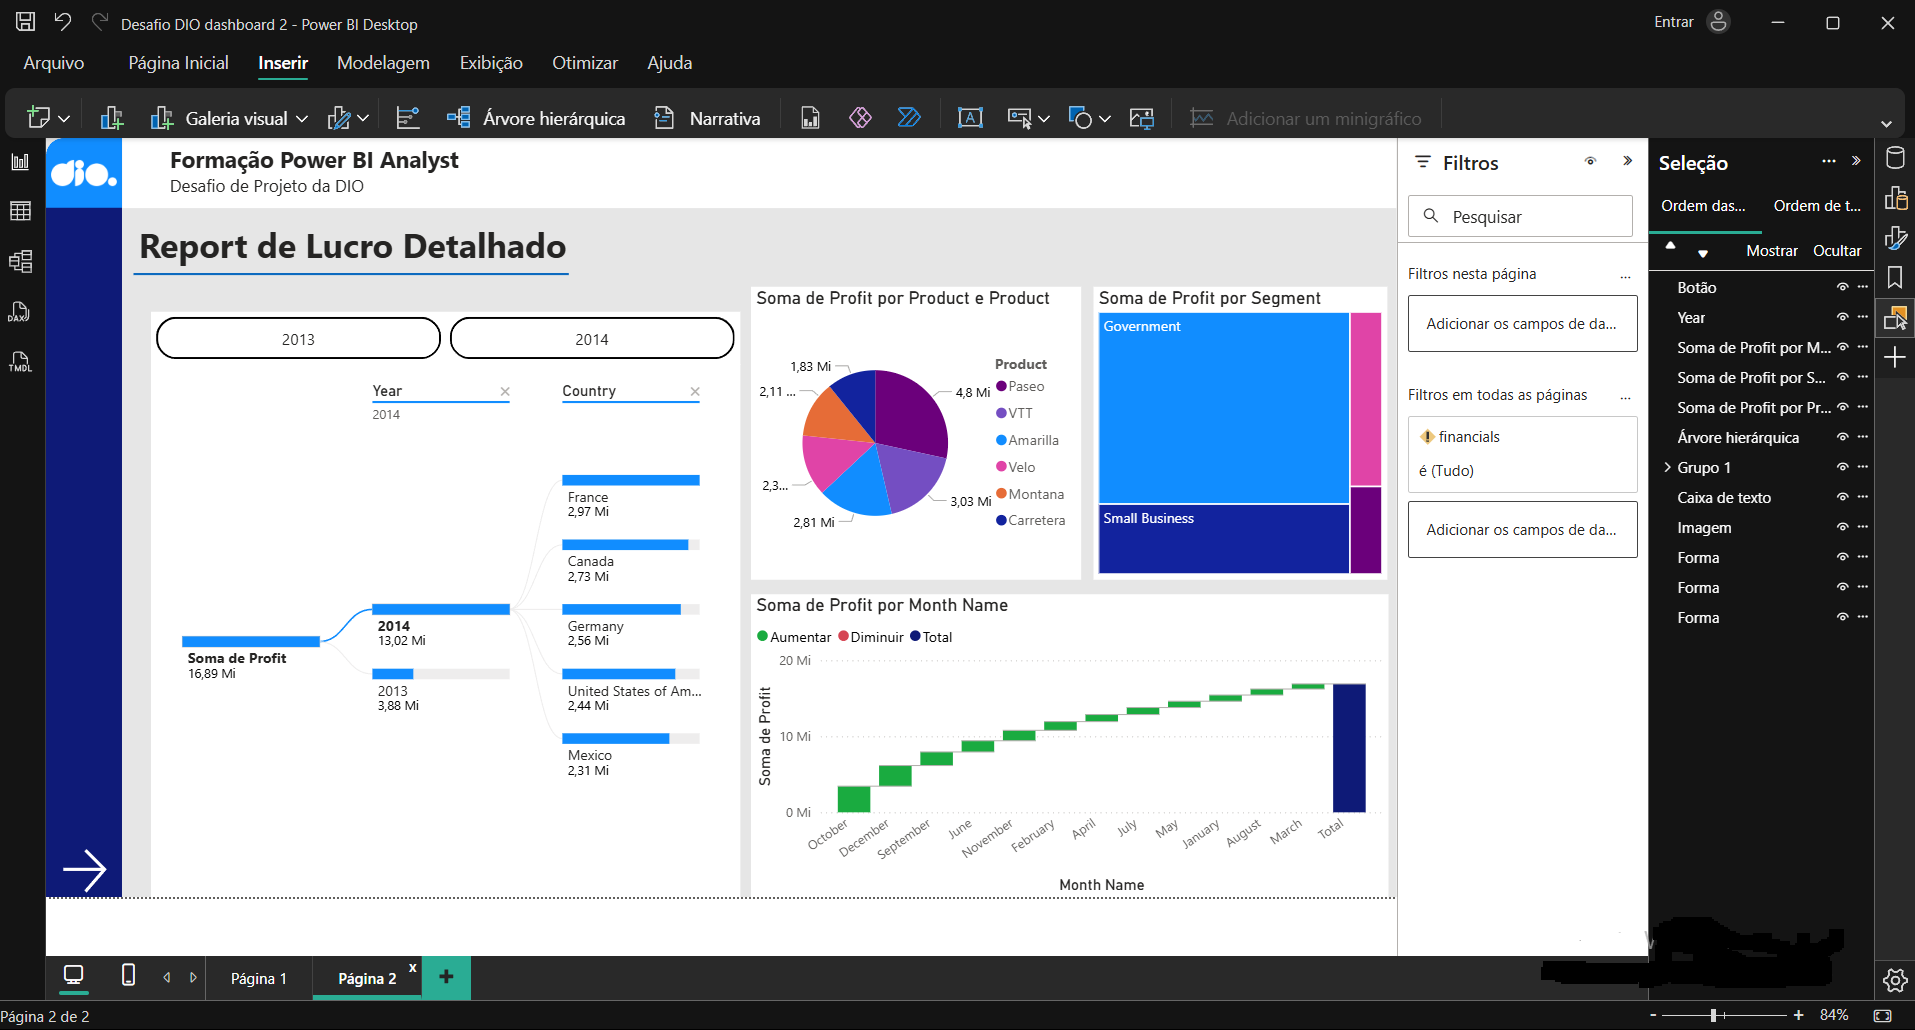

The dashboard page shown, as its layout file describes it:
{"tool":"powerbi","page":{"name":"Página 2","canvas":[1280,720],"ordinal":1},"visuals":[{"type":"shape","box":[0,0,1279.8,720.2],"z":0},{"type":"shape","box":[0,0,72.4,720.2],"z":2000},{"type":"shape","box":[0,0,72.4,66.3],"z":3500},{"type":"image","box":[0,0,72.4,66.3],"z":4000},{"type":"textbox","box":[72.4,0,1207.4,66.3],"z":4001},{"type":"textbox","box":[83.4,74.8,430.7,57.7],"z":4002,"group":"g1"},{"type":"shape","box":[83.4,117.7,412.4,23.3],"z":4003,"group":"g1"},{"type":"group","id":"g1","title":"Grupo 1","box":[83.4,74.8,430.7,66.3],"z":4004},{"type":"decompositionTreeVisual","fields":{"Analyze":["Sum(financials.Profit)"],"ExplainBy":["financials.Year","financials.Country"]},"box":[99.4,214.7,558.3,505.5],"z":4006},{"type":"pieChart","fields":{"Series":["financials.Product"],"Category":["financials.Product"],"Y":["Sum(financials.Profit)"]},"box":[667.5,141.1,312.9,277.3],"z":4007},{"type":"treemap","fields":{"Group":["financials.Segment"],"Values":["Sum(financials.Profit)"]},"box":[992.6,141.1,278.5,277.3],"z":4008},{"type":"waterfallChart","fields":{"Category":["financials.Month Name"],"Y":["Sum(financials.Profit)"]},"box":[667.5,431.9,603.7,288.3],"z":4009},{"type":"advancedSlicerVisual","fields":{"Values":["financials.Year"]},"box":[99.4,164.4,558.3,50.3],"z":4010},{"type":"actionButton","box":[0,667.5,72.4,52.8],"z":4011}]}

Visuals, with their boxes on the page's 1280x720 design canvas (x1, y1, x2, y2). These are canvas units, not pixel positions in the 1915x1030 screenshot, which may show the page scaled, cropped or inside an application window:
shape: l=0, t=0, r=1280, b=720
shape: l=0, t=0, r=72, b=720
shape: l=0, t=0, r=72, b=66
image: l=0, t=0, r=72, b=66
textbox: l=72, t=0, r=1280, b=66
textbox: l=83, t=75, r=514, b=132
shape: l=83, t=118, r=496, b=141
"Grupo 1" group: l=83, t=75, r=514, b=141
decompositionTreeVisual - Sum(financials.Profit) x financials.Year: l=99, t=215, r=658, b=720
pieChart - financials.Product x financials.Product: l=668, t=141, r=980, b=418
treemap - financials.Segment x Sum(financials.Profit): l=993, t=141, r=1271, b=418
waterfallChart - financials.Month Name x Sum(financials.Profit): l=668, t=432, r=1271, b=720
advancedSlicerVisual - financials.Year: l=99, t=164, r=658, b=215
actionButton: l=0, t=668, r=72, b=720
